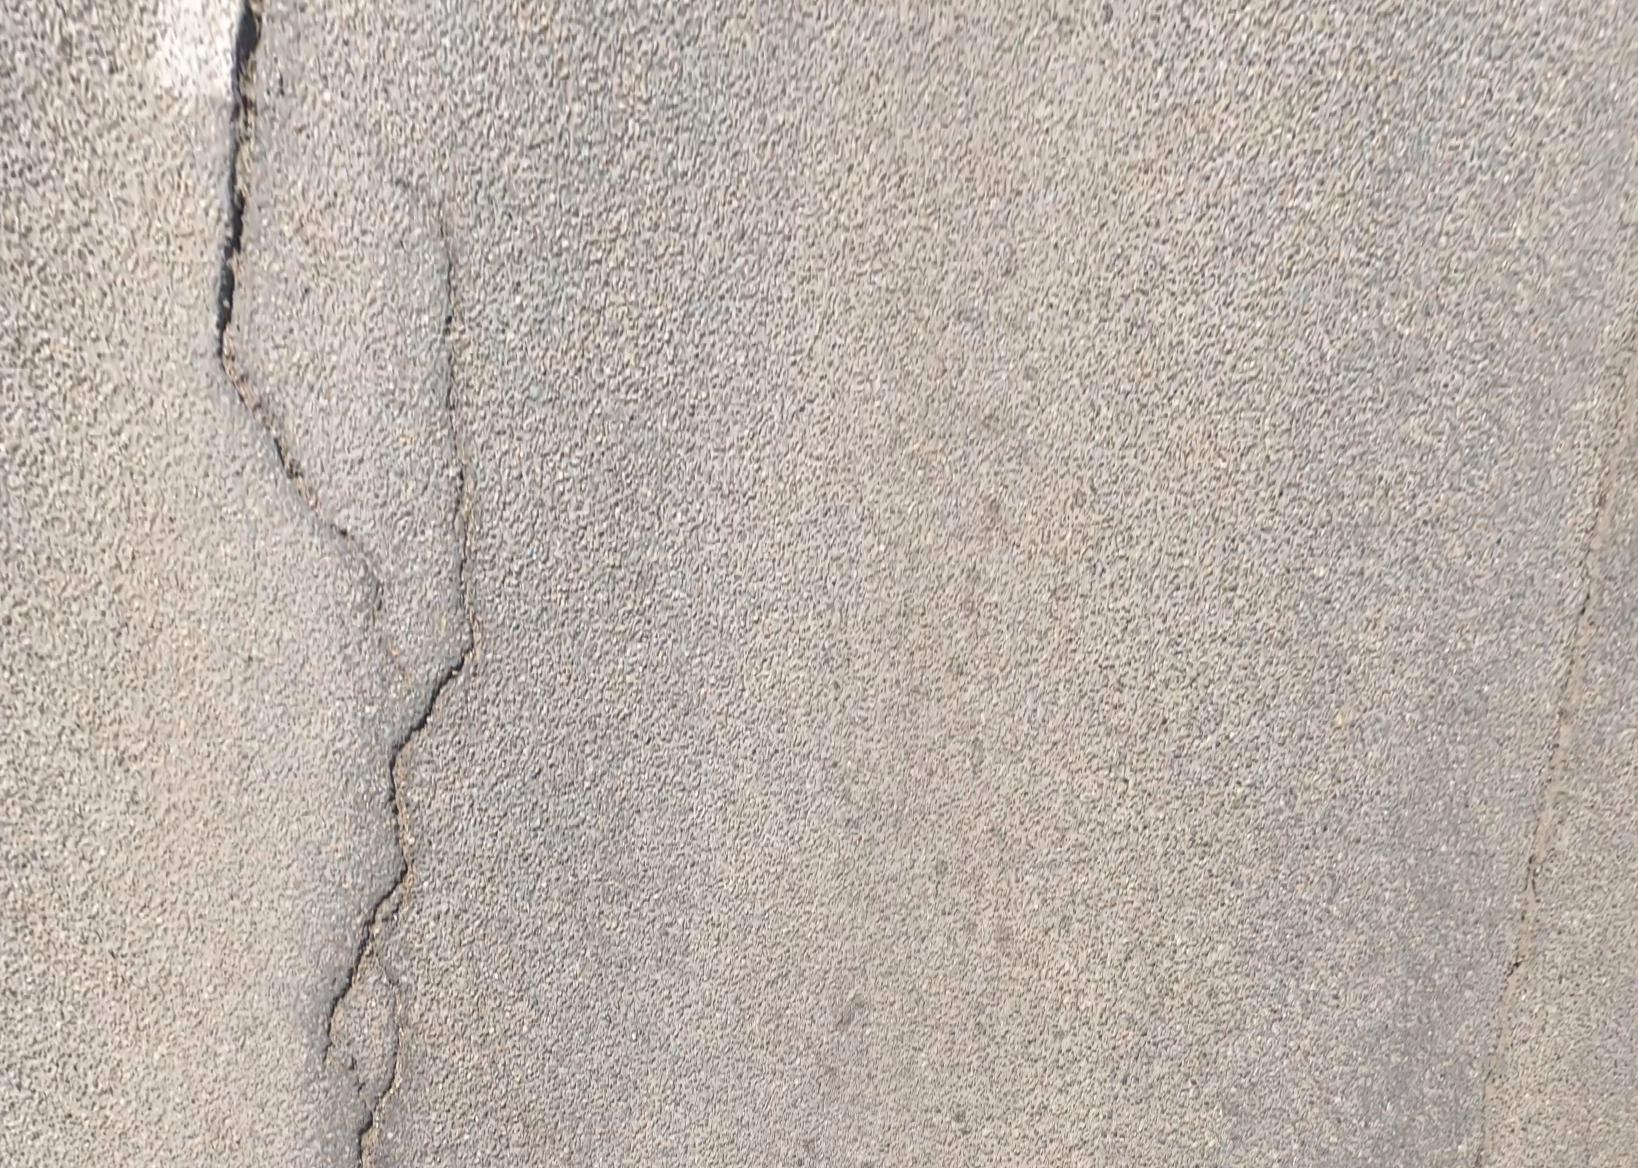pothole: (215, 0, 263, 354)
